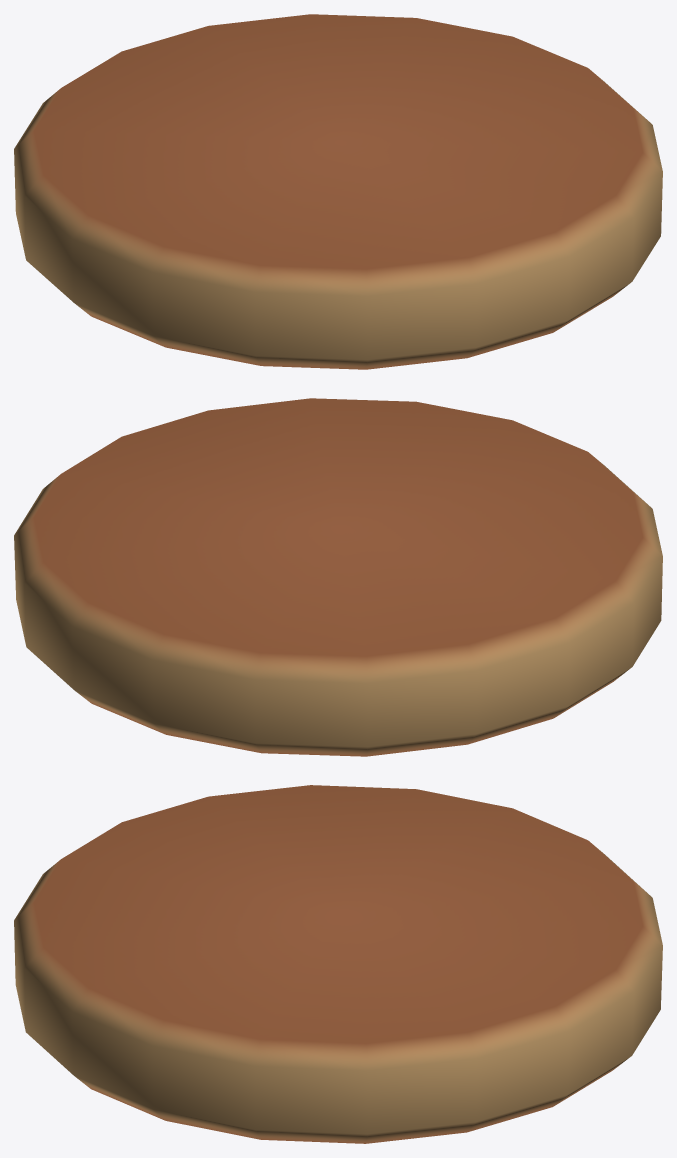
Rendered from consumables-junkfood-pancake_v3.glb.
3 renders of one model, top to bottom at view 1: azimuth 30°, elevation 25°; view 2: azimuth 150°, elevation 25°; view 3: azimuth 270°, elevation 25°, orthographic.
Parts seen in each view (by area): view 1: Pancake_v3; view 2: Pancake_v3; view 3: Pancake_v3.
Part boxes in pixels (box(x1,y1,x2,y2)): Pancake_v3: box(14, 14, 662, 369); Pancake_v3: box(14, 398, 662, 756); Pancake_v3: box(14, 785, 662, 1143).
Size of the model in its own units: 0.1004 by 0.0177 by 0.1004.
